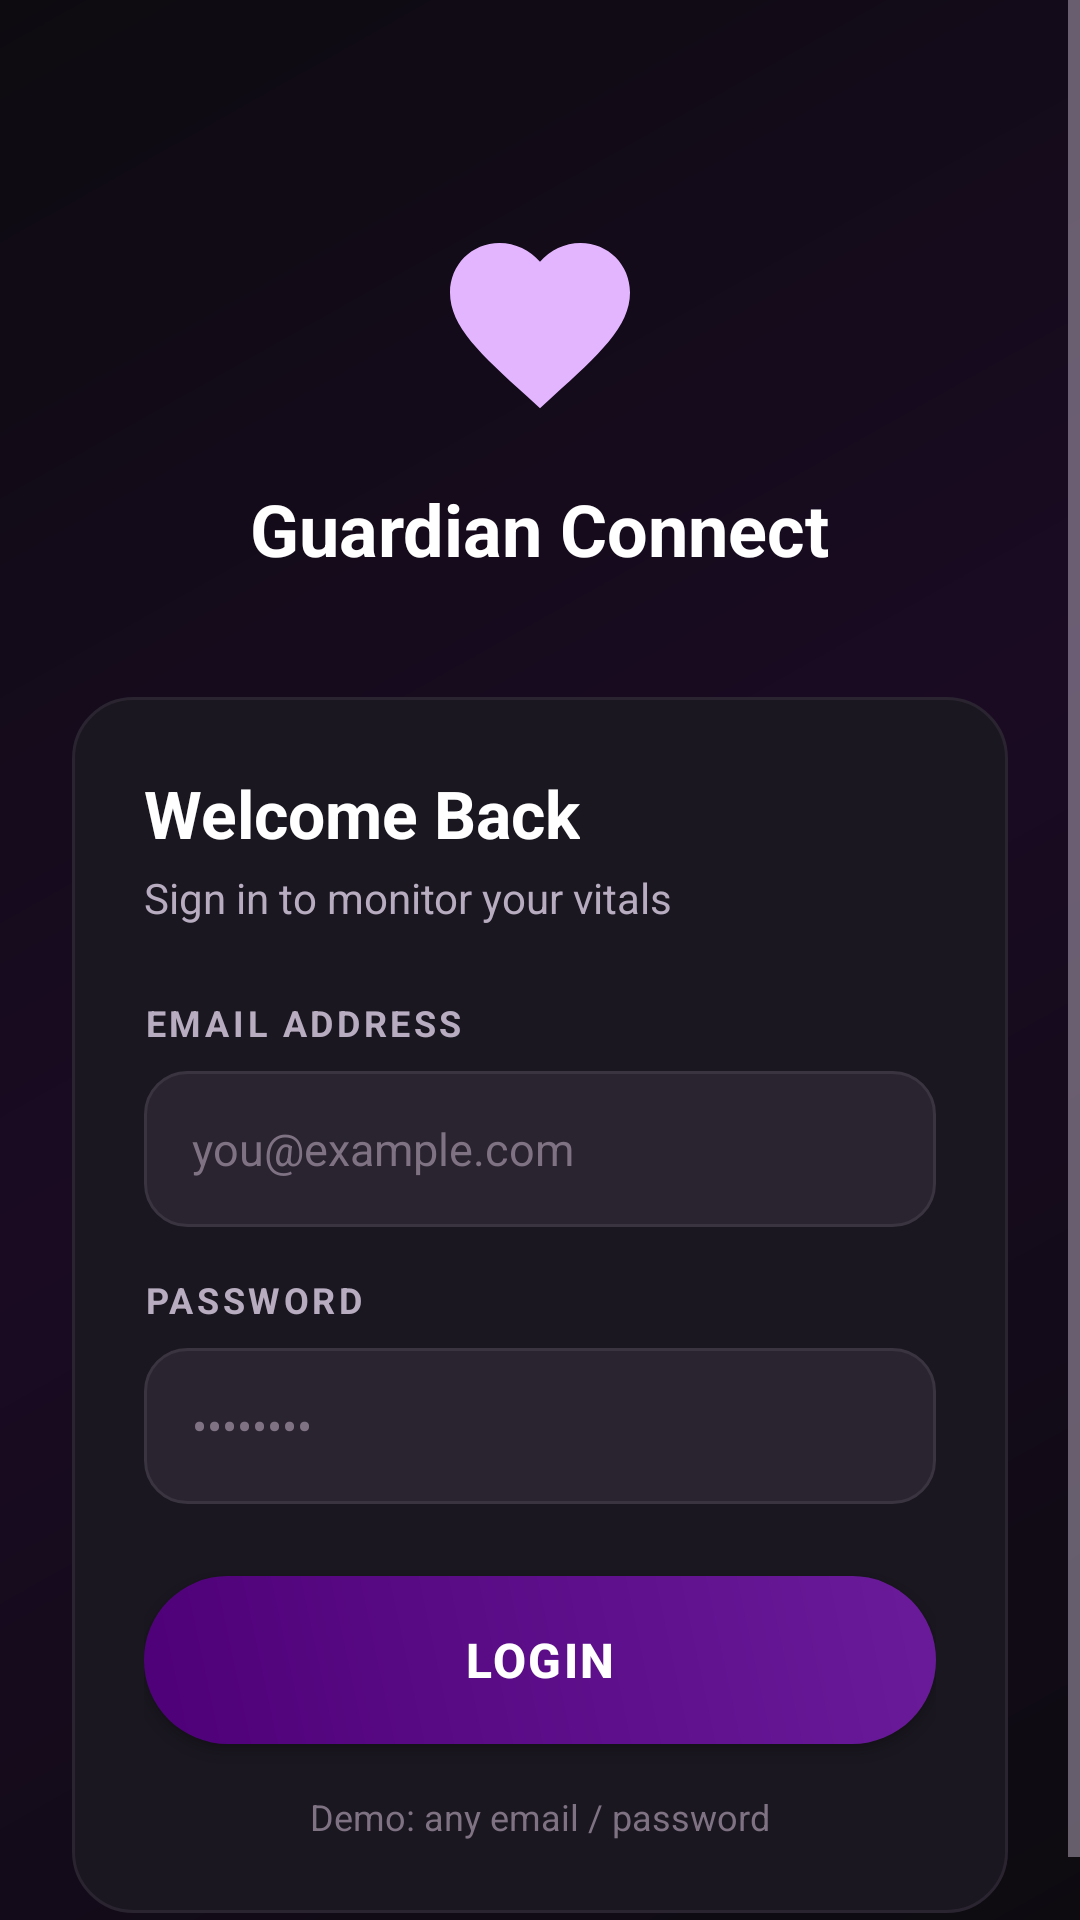

Icons on this 1080x1920 Android screen, each with the point to tap as (x,y):
heart: (540,325)
